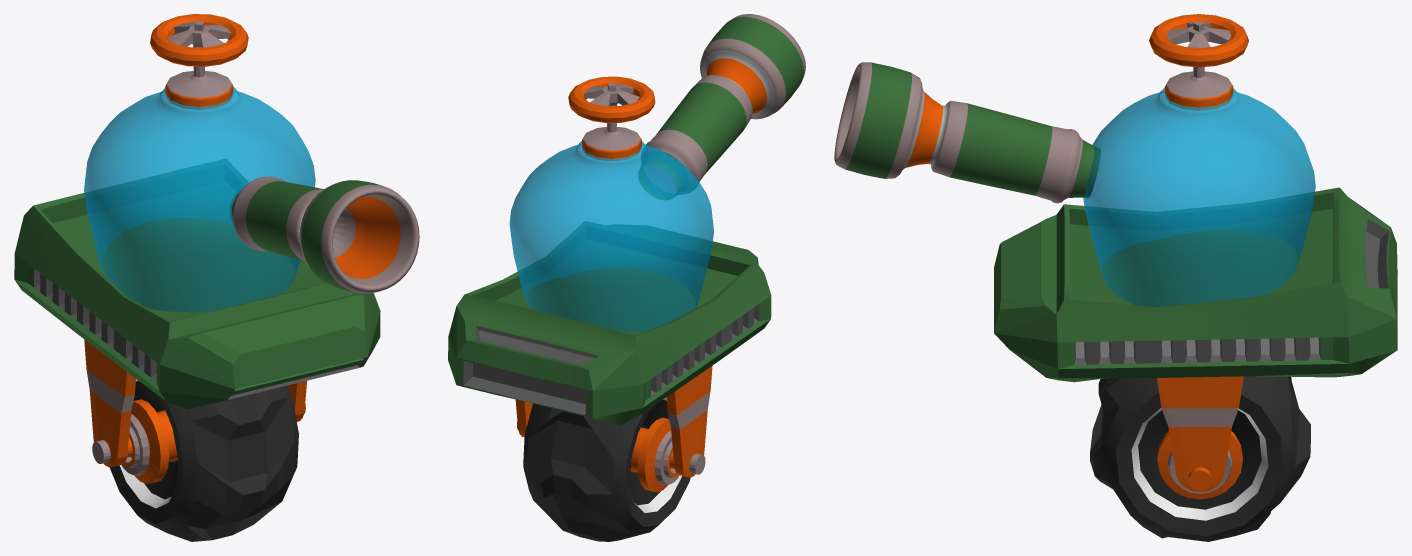
Rendered from FishTankMain.fbx.
The picture shows the model from 3 angles, left to right: view 1: azimuth 30°, elevation 25°; view 2: azimuth 150°, elevation 25°; view 3: azimuth 270°, elevation 25°; orthographic projection. The views are drawn at different scales.
Parts seen in each view (by area): view 1: Mainbody4, FishTank, Tire2, Cannon, Axel, Top_Turnstole; view 2: Mainbody4, FishTank, Cannon, Tire2, Axel, Top_Turnstole; view 3: Mainbody4, FishTank, Cannon, Tire2, Axel, Top_Turnstole.
Part boxes in pixels (left/top/right/bottom): Mainbody4: left=14, top=159, right=380, bottom=409; FishTank: left=84, top=87, right=315, bottom=312; Tire2: left=109, top=379, right=298, bottom=541; Cannon: left=230, top=176, right=419, bottom=293; Axel: left=84, top=339, right=306, bottom=483; Top_Turnstole: left=150, top=14, right=248, bottom=109; Mainbody4: left=448, top=221, right=771, bottom=424; FishTank: left=509, top=141, right=713, bottom=331; Cannon: left=638, top=14, right=805, bottom=199; Tire2: left=523, top=397, right=690, bottom=541; Axel: left=515, top=365, right=712, bottom=492; Top_Turnstole: left=568, top=76, right=655, bottom=160; Mainbody4: left=994, top=187, right=1397, bottom=382; FishTank: left=1083, top=87, right=1315, bottom=306; Cannon: left=834, top=62, right=1100, bottom=203; Tire2: left=1090, top=376, right=1310, bottom=541; Axel: left=1157, top=376, right=1243, bottom=499; Top_Turnstole: left=1149, top=14, right=1248, bottom=110.
Bounding box in the file's own units: 1 × 2.2 × 2.19.
